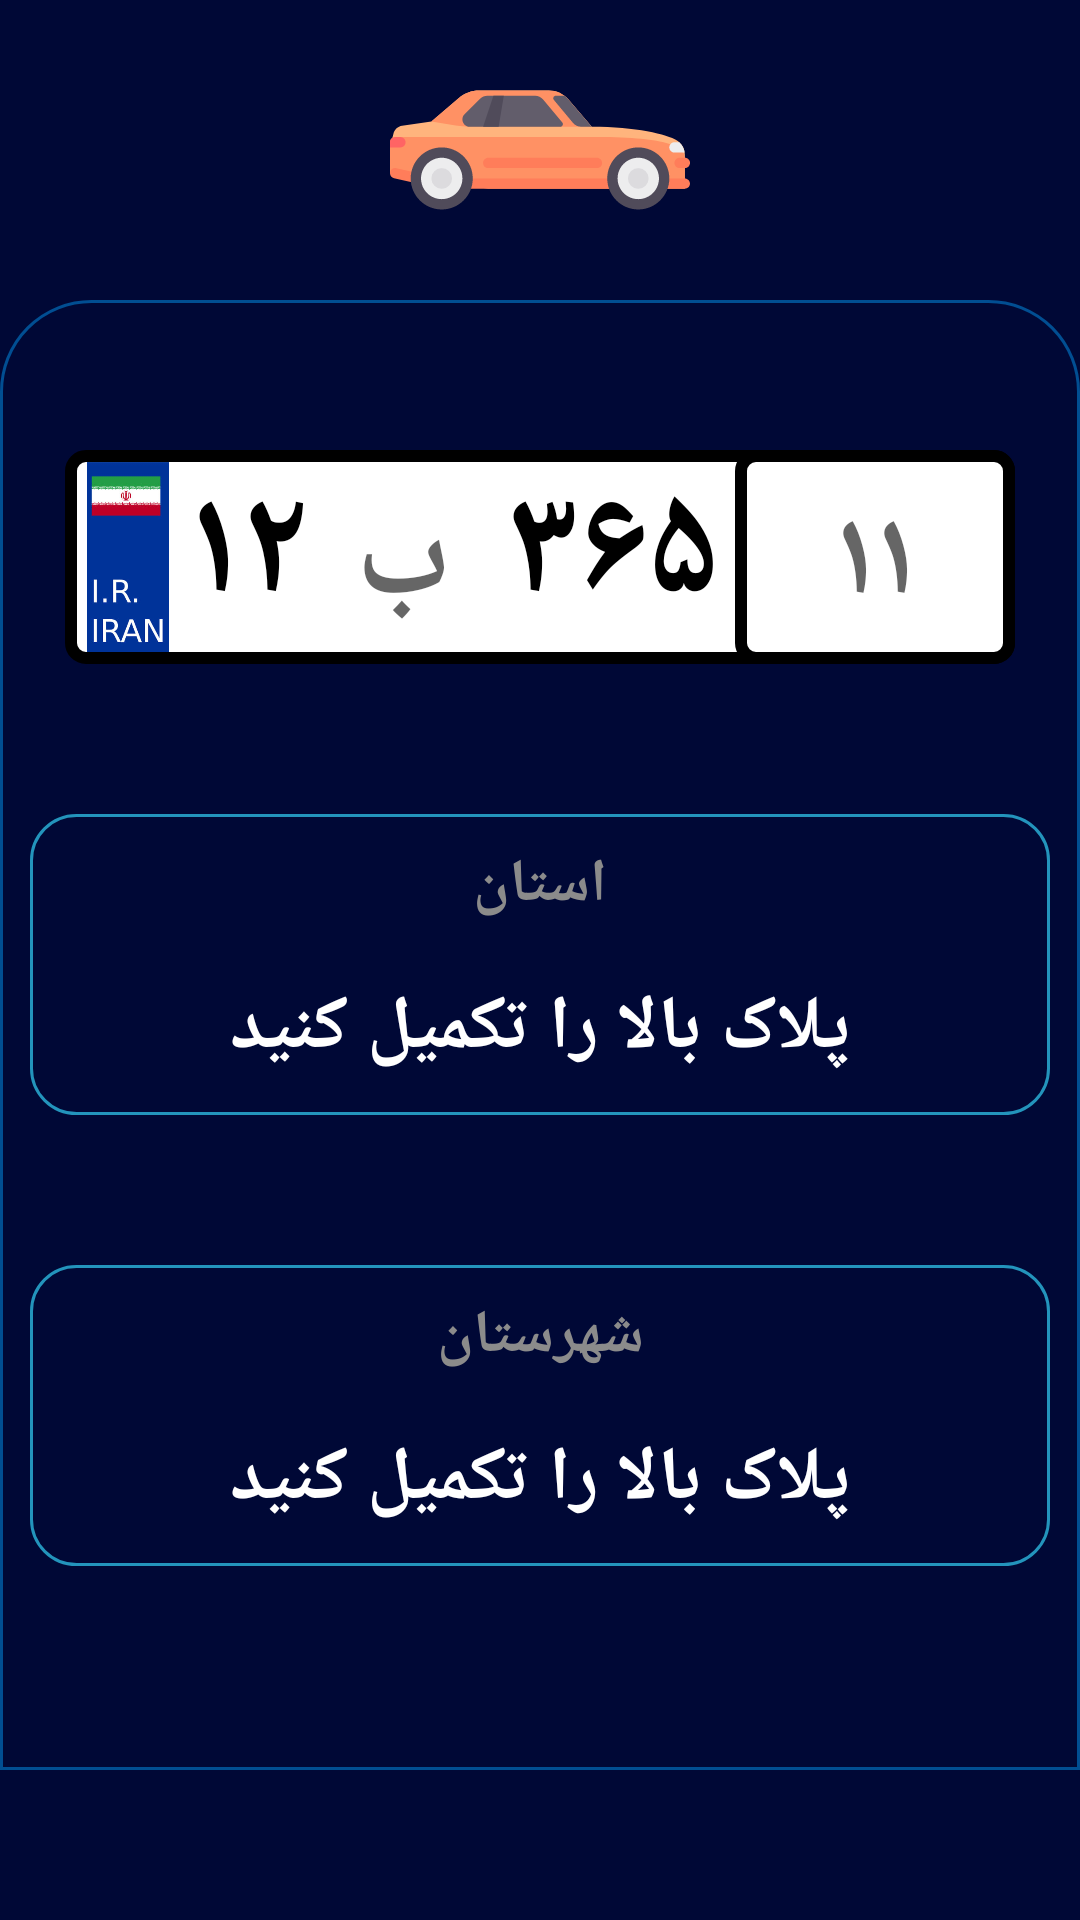

Screen size 1080x1920. Icon name, then its center in pixels as (x,y):
car: (540,150)
